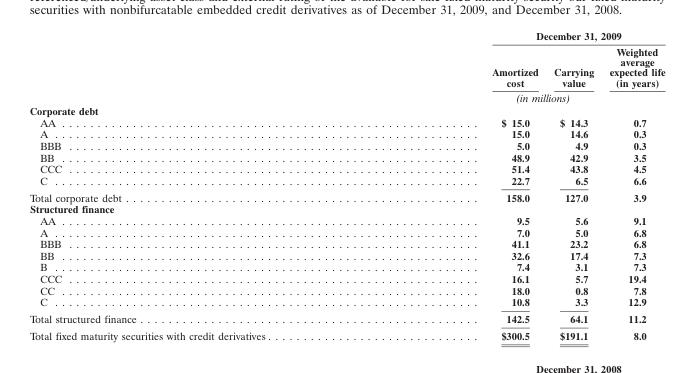table: (28, 29, 664, 341)
table column: (28, 29, 378, 341), (378, 29, 545, 341), (600, 29, 664, 341), (545, 29, 600, 341)
table column header: (28, 29, 664, 104)
table projected row header: (28, 104, 664, 116), (28, 202, 664, 214)
table row: (28, 43, 664, 89), (28, 310, 664, 326), (28, 89, 664, 104), (28, 295, 664, 310), (28, 326, 664, 341), (28, 29, 664, 43), (28, 174, 664, 188), (28, 188, 664, 202), (28, 104, 664, 116), (28, 127, 664, 139), (28, 139, 664, 151), (28, 162, 664, 174), (28, 202, 664, 214), (28, 214, 664, 226), (28, 237, 664, 249), (28, 249, 664, 261), (28, 272, 664, 284), (28, 116, 664, 127), (28, 151, 664, 162), (28, 226, 664, 237), (28, 261, 664, 272), (28, 284, 664, 295)
table spanning cell: (378, 29, 664, 43), (600, 43, 664, 104), (378, 89, 600, 104)
